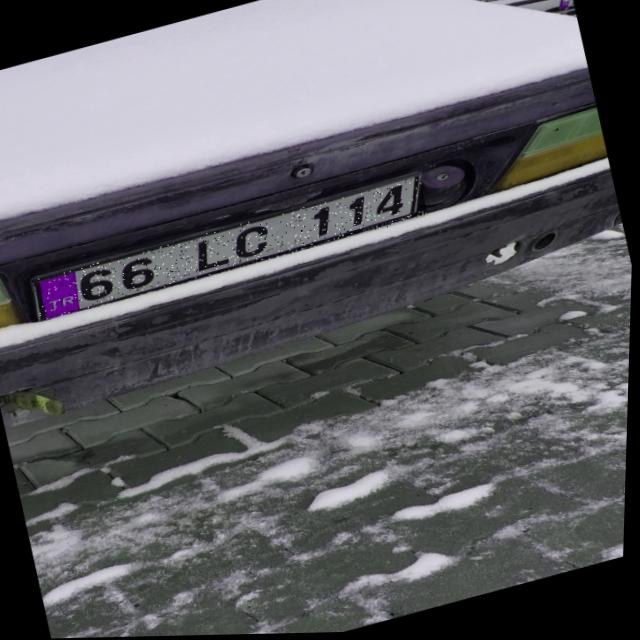license_plate: (32, 177, 430, 321)
